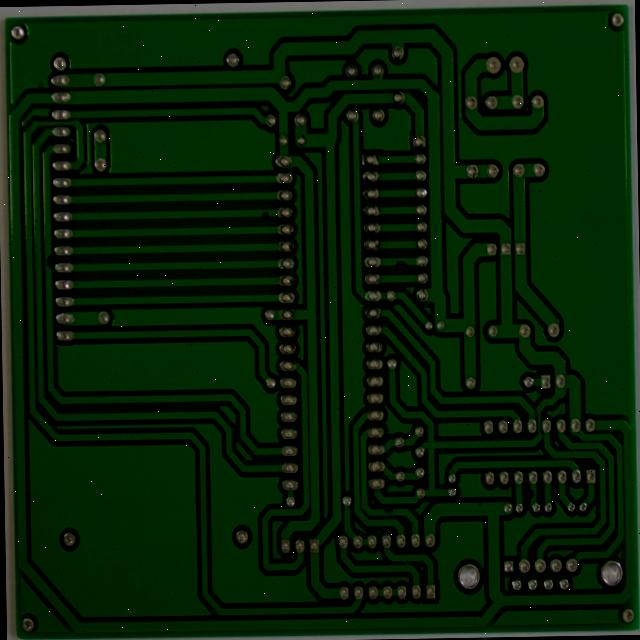mouse_bite: (47, 294, 62, 321), (445, 300, 462, 322), (291, 243, 308, 260), (432, 598, 447, 615), (595, 577, 609, 594)
